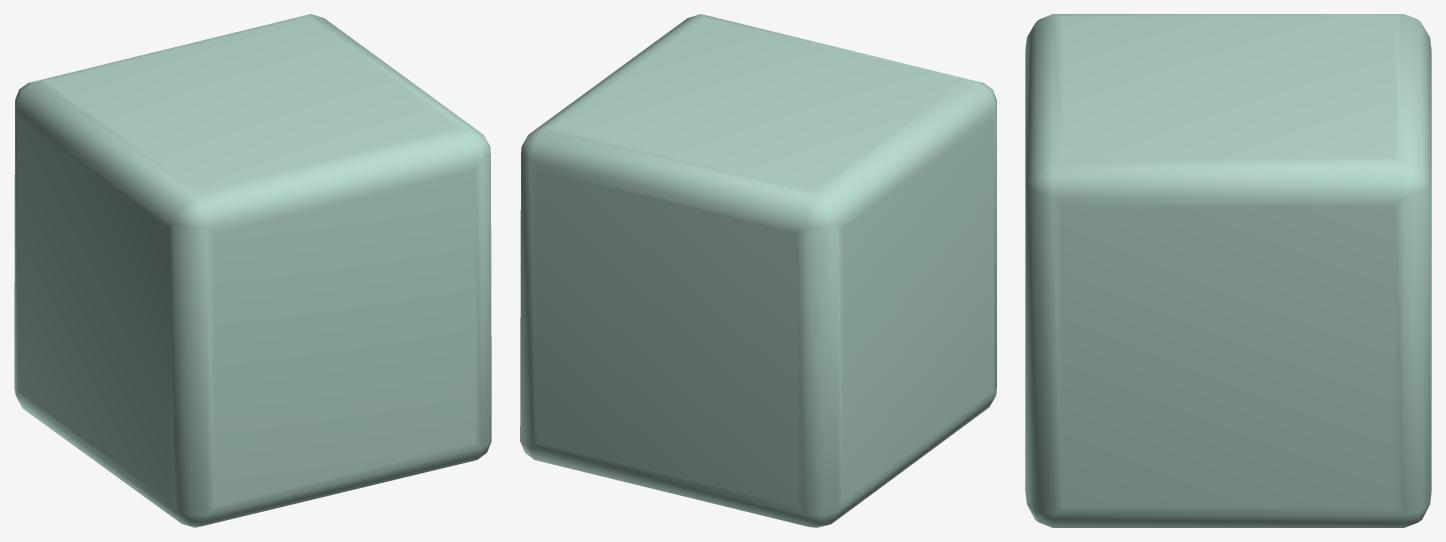
The model's file is voxel_ceramic.glb.
3 views of the same model, side by side, from view 1: azimuth 30°, elevation 25°; view 2: azimuth 150°, elevation 25°; view 3: azimuth 270°, elevation 25° (orthographic). The views are drawn at different scales.
Parts seen in each view (by area): view 1: Voxel_Ceramic; view 2: Voxel_Ceramic; view 3: Voxel_Ceramic.
Boxes of the visible parts, bbox=[...] form: Voxel_Ceramic: bbox=[14, 14, 491, 527]; Voxel_Ceramic: bbox=[520, 14, 996, 527]; Voxel_Ceramic: bbox=[1025, 14, 1431, 527].
Size of the model in its own units: 0.984 by 0.984 by 0.984.
